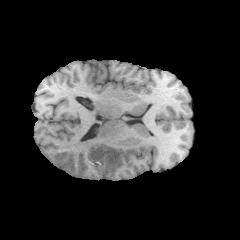glioma: (57, 134, 133, 177)
